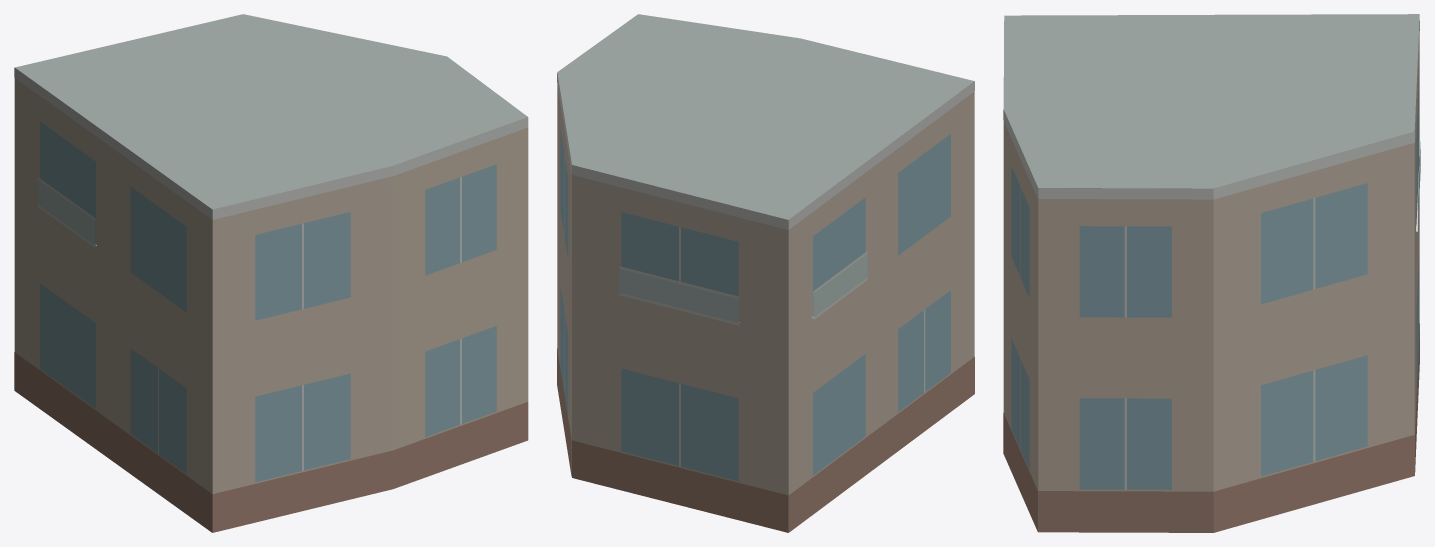
Rendered from survey-upis-32608165.glb.
3 renders of one model, left to right at view 1: azimuth 30°, elevation 25°; view 2: azimuth 150°, elevation 25°; view 3: azimuth 270°, elevation 25°, orthographic. The views are drawn at different scales.
Visible parts, largest first — view 1: survey-upis-32608165.tmp; view 2: survey-upis-32608165.tmp; view 3: survey-upis-32608165.tmp.
Part boxes in pixels (box(x1,y1,x2,y2)): survey-upis-32608165.tmp: box(14, 14, 528, 532); survey-upis-32608165.tmp: box(557, 14, 974, 532); survey-upis-32608165.tmp: box(1003, 14, 1420, 532).
Size of the model in its own units: 8.3 by 7.6 by 8.35.
